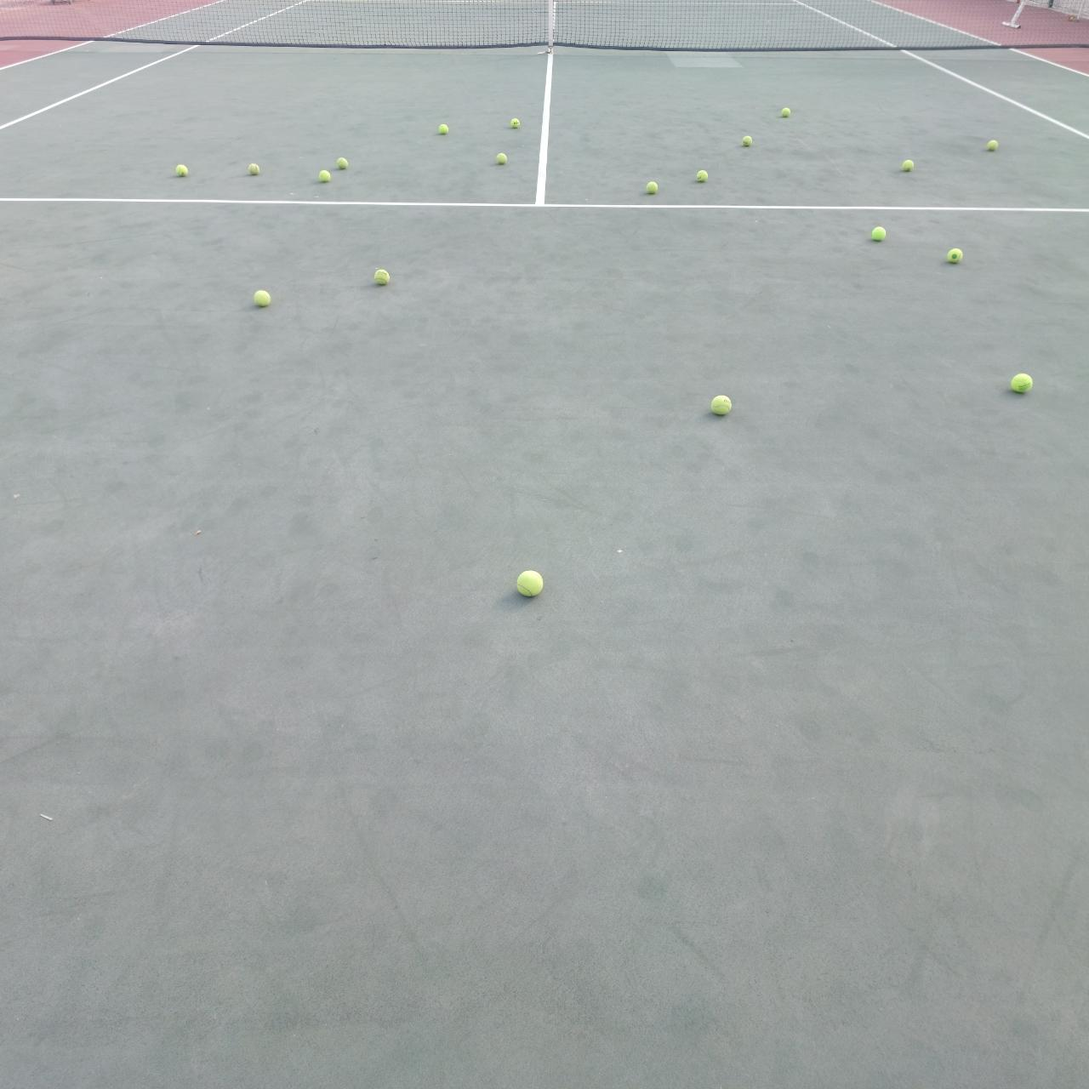tennis-ball: (516, 567, 545, 597), (1010, 371, 1035, 394), (710, 392, 733, 416), (253, 288, 271, 308), (373, 268, 391, 286), (947, 247, 964, 264), (871, 225, 887, 242), (176, 162, 190, 176), (438, 122, 451, 134), (646, 181, 658, 194), (902, 160, 914, 172), (337, 157, 349, 169), (248, 163, 260, 175), (697, 170, 708, 182), (319, 170, 330, 182), (987, 140, 998, 151), (497, 153, 507, 164), (510, 118, 520, 128), (743, 135, 752, 146), (782, 107, 791, 117)
